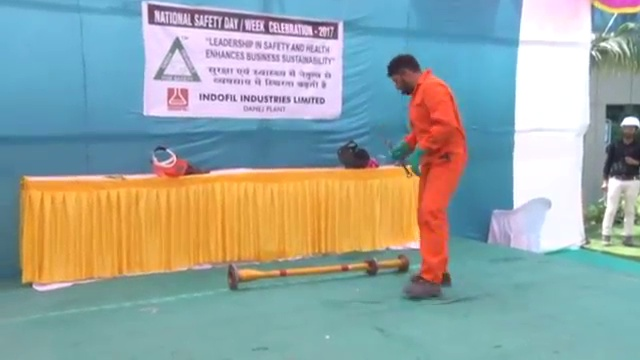helmet: (619, 115, 640, 129)
helmet_off: (387, 54, 422, 95)
helmet_on: (619, 114, 640, 144)
person: (379, 54, 468, 298), (601, 112, 640, 250)
